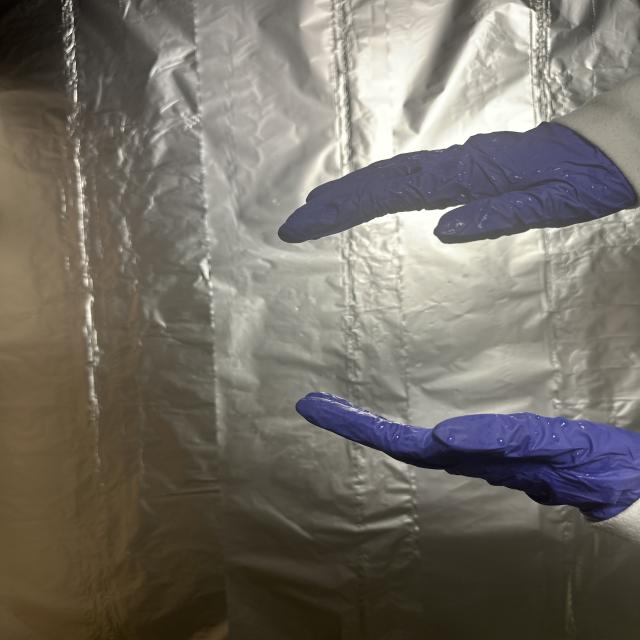gloves_contaminated: (278, 123, 640, 522)
